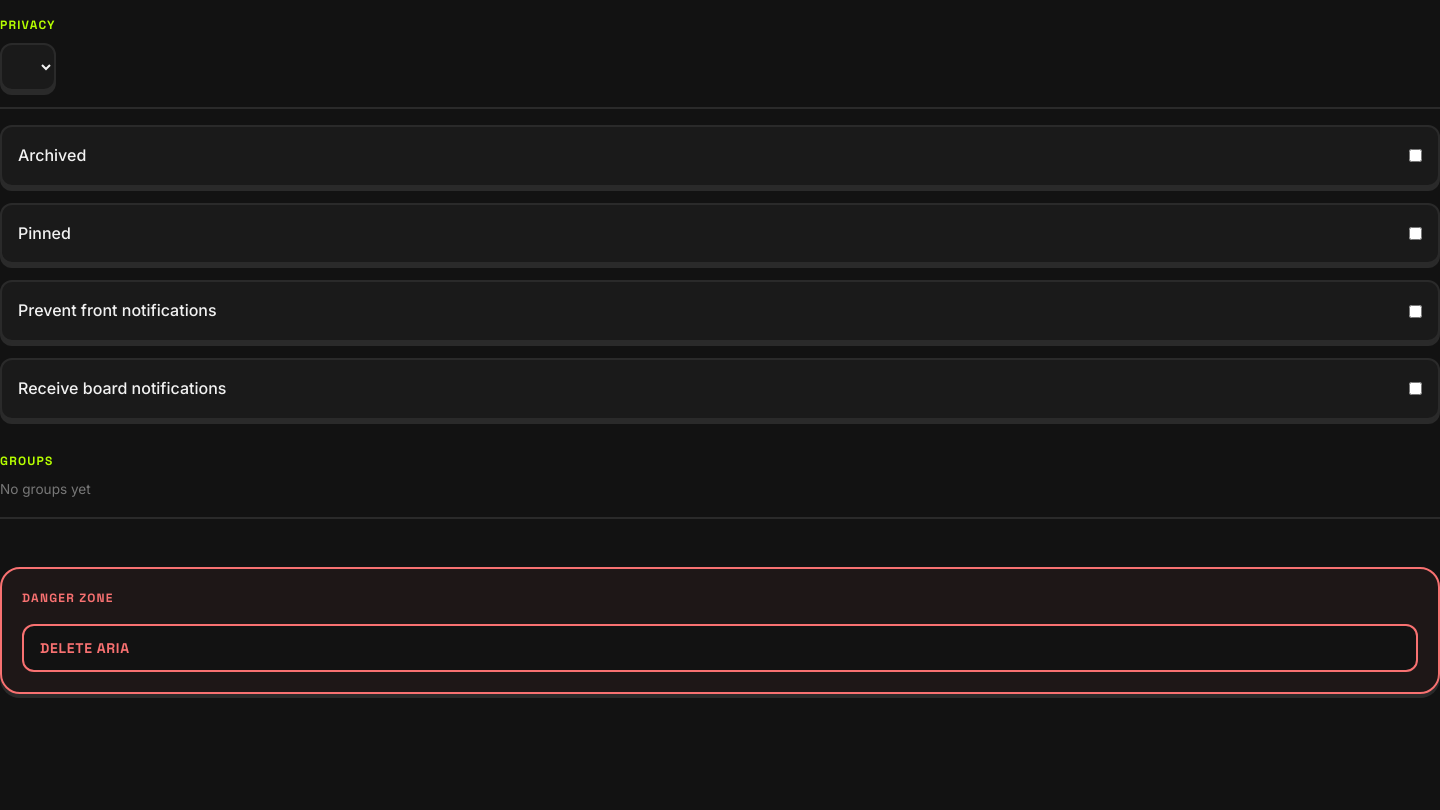
AccessTab › opens delete sheet when delete button clicked
The image size is (1440, 810).
Click the button "Delete Aria". click: (68, 648)
box: [22,624,1418,672]
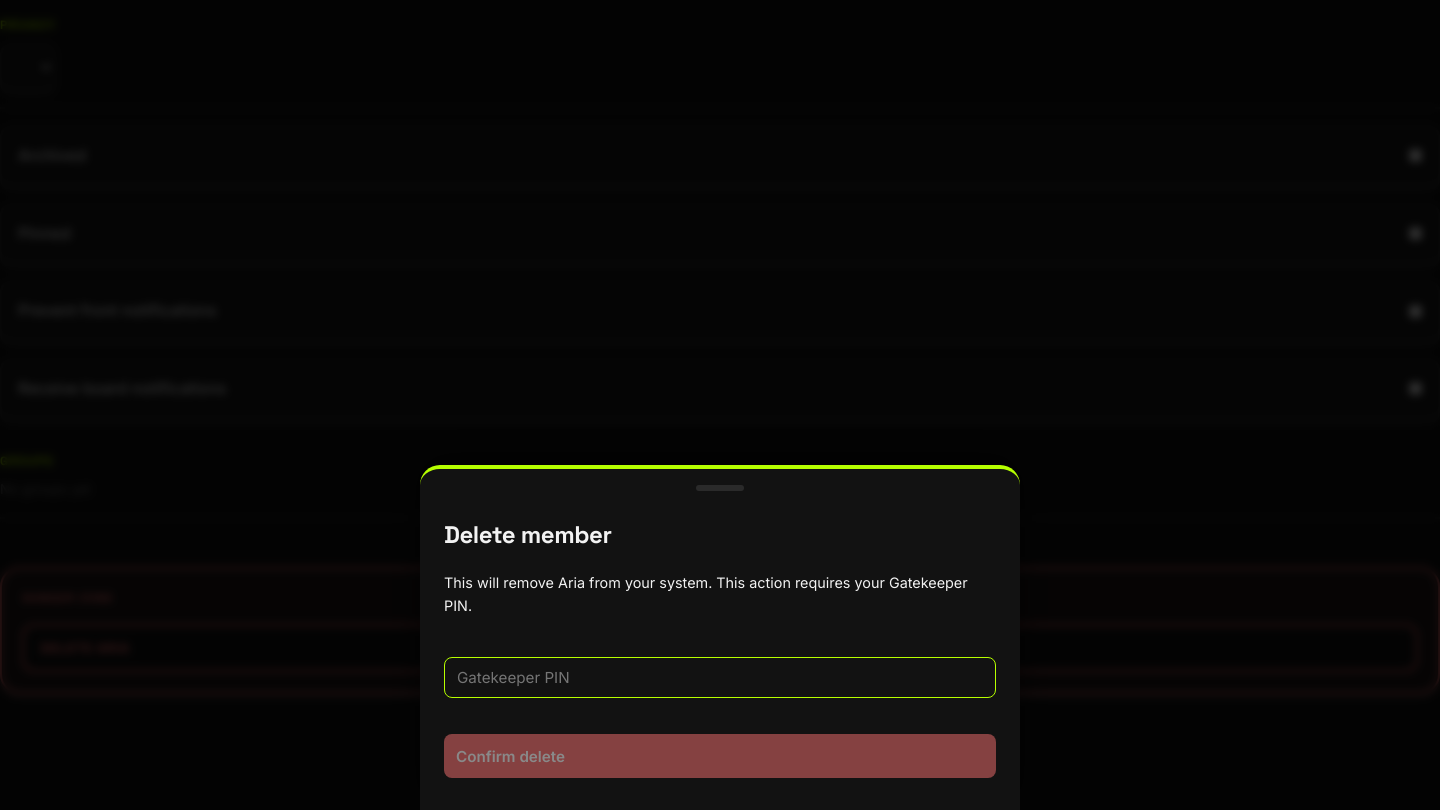
expect the dialog is shown: met, box [420,465,1020,809]
